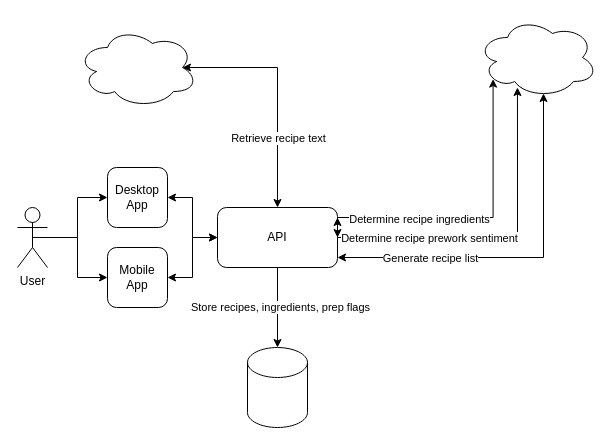
Image size: 615x445. Some labels were removed from this diagram. Each missing label, with the centre of its shape:
Claude (or other LLM): (537,57)
recipetineats, taste.com etc: (137,67)
